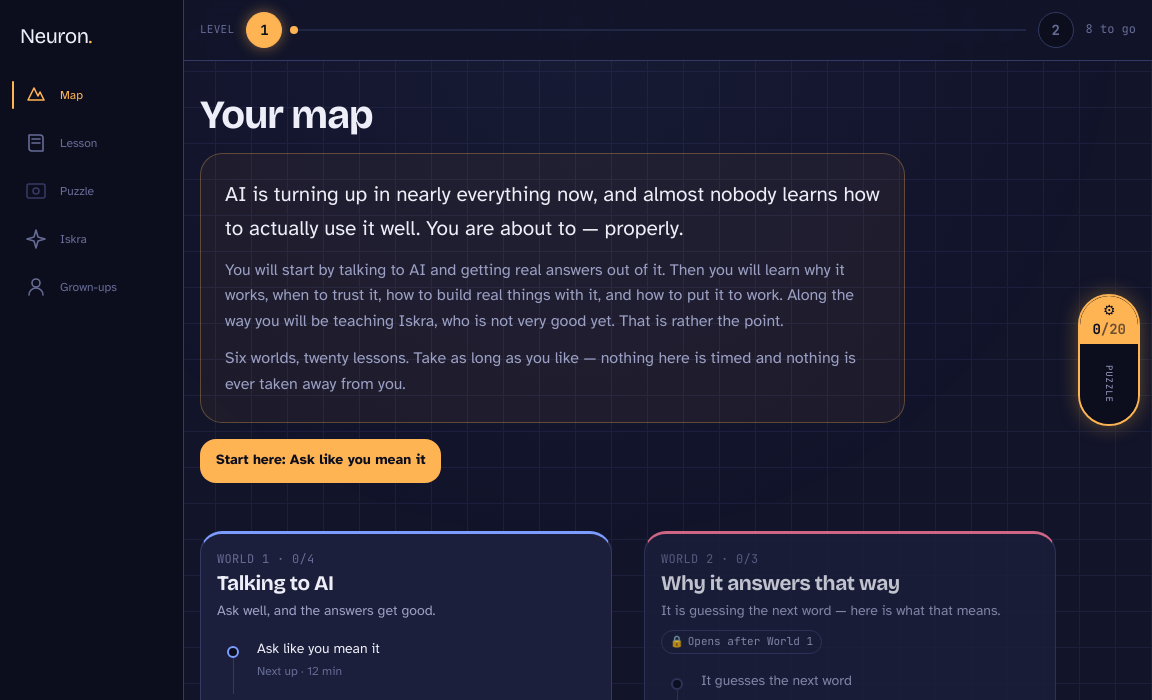
Neuron app › states plainly that nothing leaves the device
Click the link "Grown-ups" at (70, 287), box [24,275,117,299]
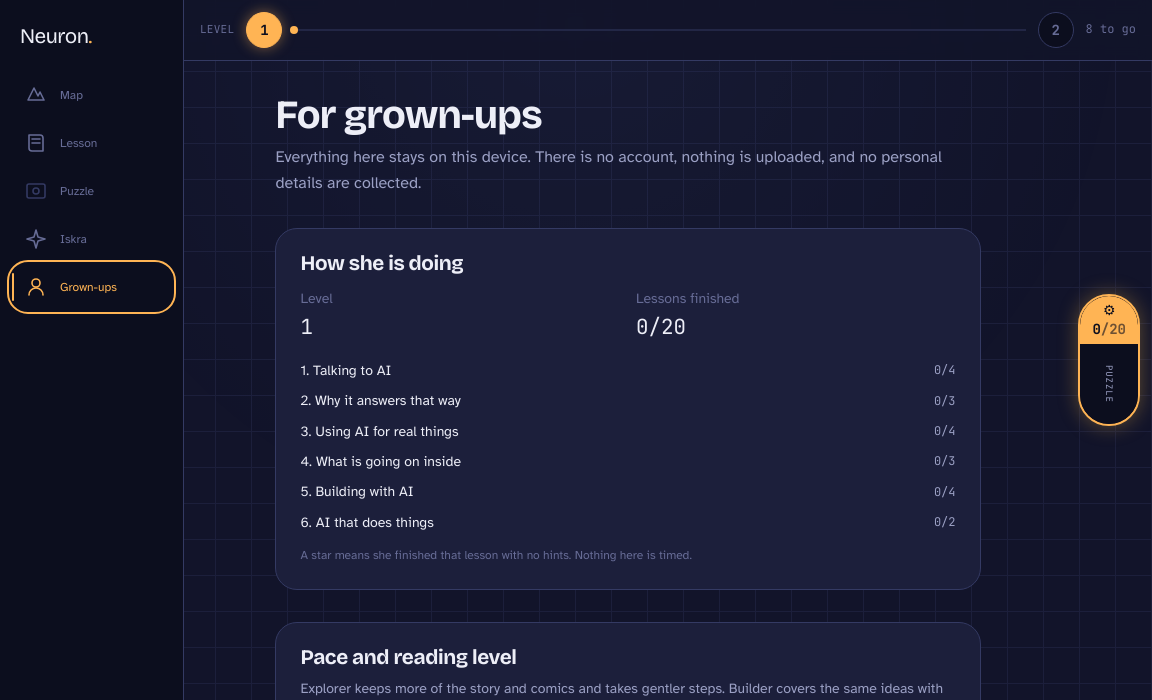
expect the text "no account" is shown: met, box [276,147,942,193]
